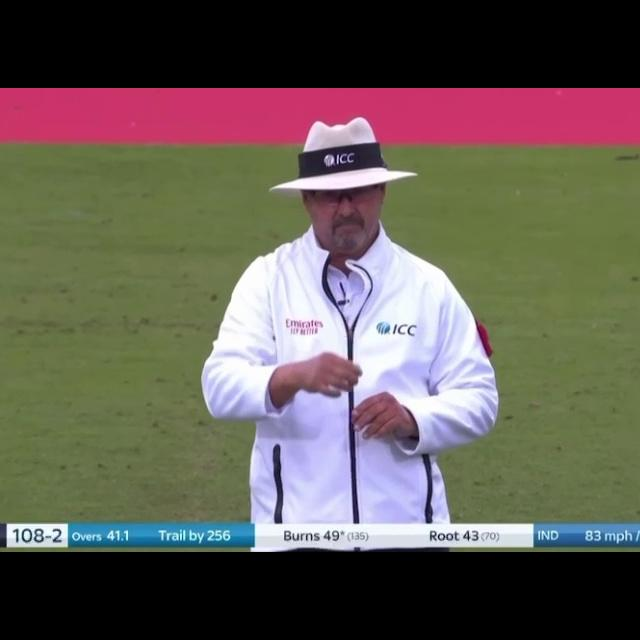umpire: (194, 100, 513, 530)
